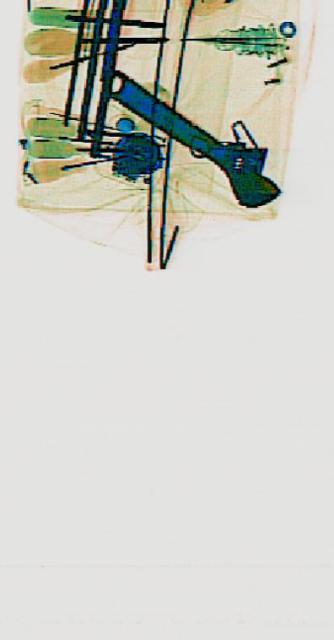Wrench: (98, 41, 283, 225)
